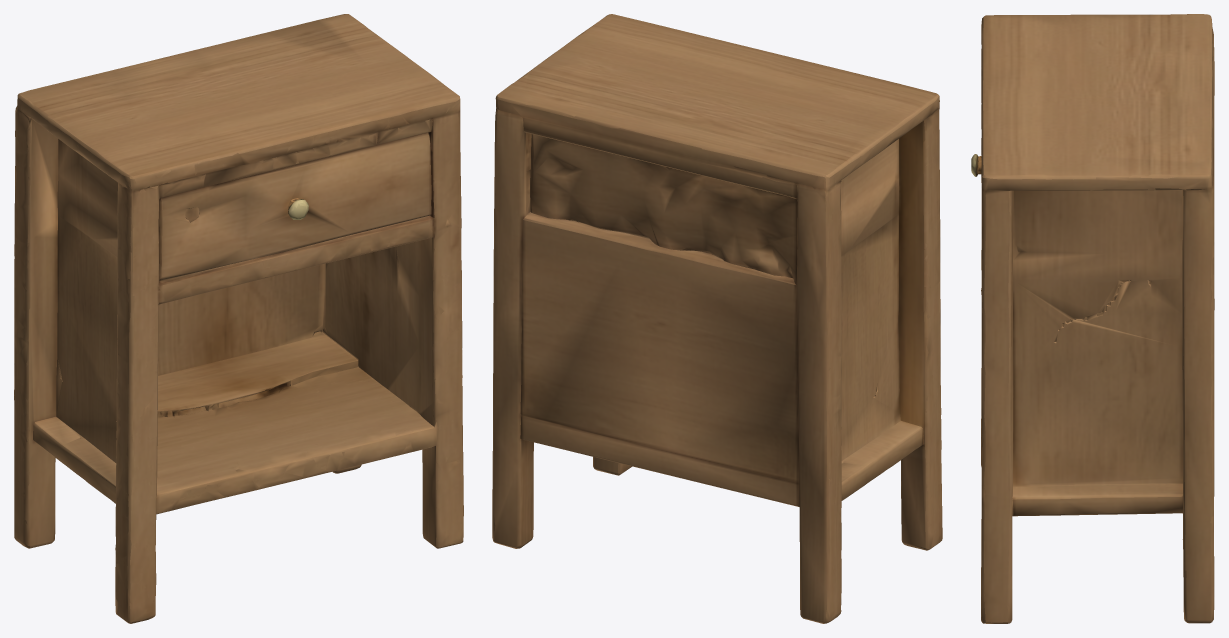
Rendered from nightstand.glb.
3 renders of one model, left to right at view 1: azimuth 30°, elevation 25°; view 2: azimuth 150°, elevation 25°; view 3: azimuth 270°, elevation 25°, orthographic.
Parts seen in each view (by area): view 1: world; view 2: world; view 3: world.
Part boxes in pixels (box(x1,y1,x2,y2)): world: box(14, 14, 463, 623); world: box(492, 14, 942, 623); world: box(971, 14, 1214, 623).
Bounding box in the file's own units: 0.4722 × 0.5997 × 0.2946.
1 material, 1 textured.
